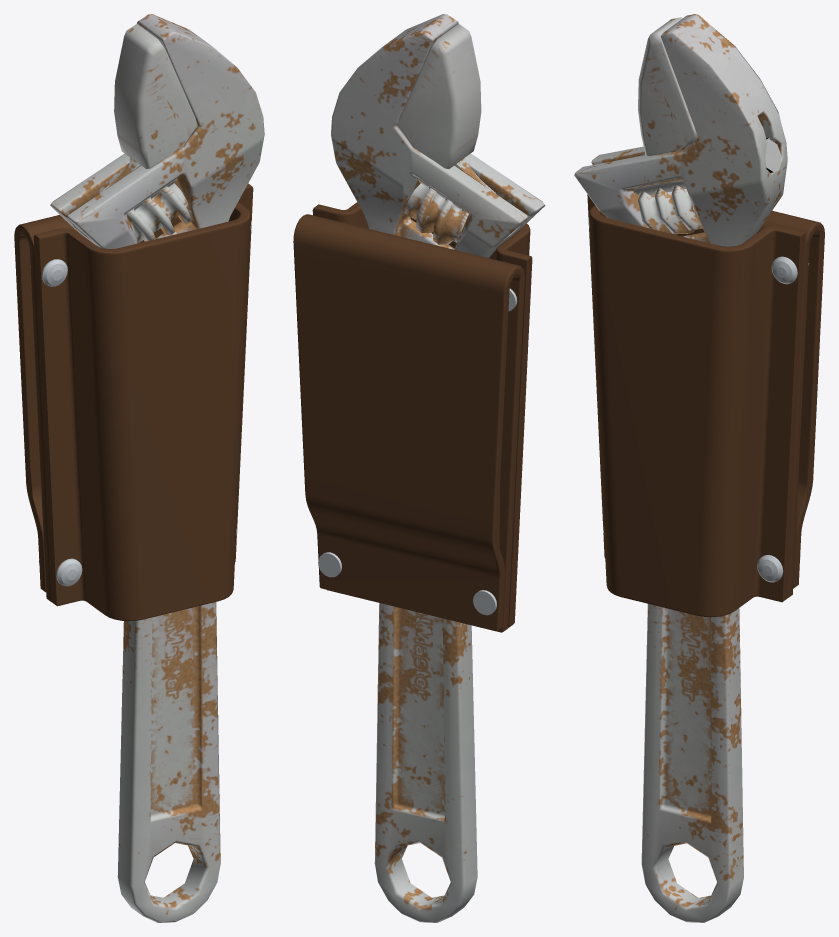
Rendered from etui-avec-cle.glb.
The picture shows the model from 3 angles, left to right: view 1: azimuth 30°, elevation 25°; view 2: azimuth 150°, elevation 25°; view 3: azimuth 330°, elevation 25°; orthographic projection.
Visible parts, largest first — view 1: SM_Etui_Cle_A_Molette, Cle_A_Molette_12po, Cle_A_Molette_12po_Machoire, Cle_A_Molette_12po_Molette; view 2: SM_Etui_Cle_A_Molette, Cle_A_Molette_12po, Cle_A_Molette_12po_Machoire, Cle_A_Molette_12po_Molette; view 3: SM_Etui_Cle_A_Molette, Cle_A_Molette_12po, Cle_A_Molette_12po_Machoire, Cle_A_Molette_12po_Molette.
Boxes of the visible parts, x1,y1,x2,y2 form: SM_Etui_Cle_A_Molette: (14, 183, 253, 621); Cle_A_Molette_12po: (50, 14, 264, 922); Cle_A_Molette_12po_Machoire: (99, 24, 197, 212); Cle_A_Molette_12po_Molette: (126, 183, 191, 242); SM_Etui_Cle_A_Molette: (293, 202, 532, 632); Cle_A_Molette_12po: (331, 14, 545, 922); Cle_A_Molette_12po_Machoire: (398, 24, 495, 212); Cle_A_Molette_12po_Molette: (404, 183, 468, 244); SM_Etui_Cle_A_Molette: (587, 194, 824, 617); Cle_A_Molette_12po: (574, 14, 787, 922); Cle_A_Molette_12po_Machoire: (633, 17, 781, 195); Cle_A_Molette_12po_Molette: (638, 184, 702, 234).
Bounding box in the file's own units: 0.0761 × 0.3048 × 0.0381.
Materials: 3 (1 with a texture image).
